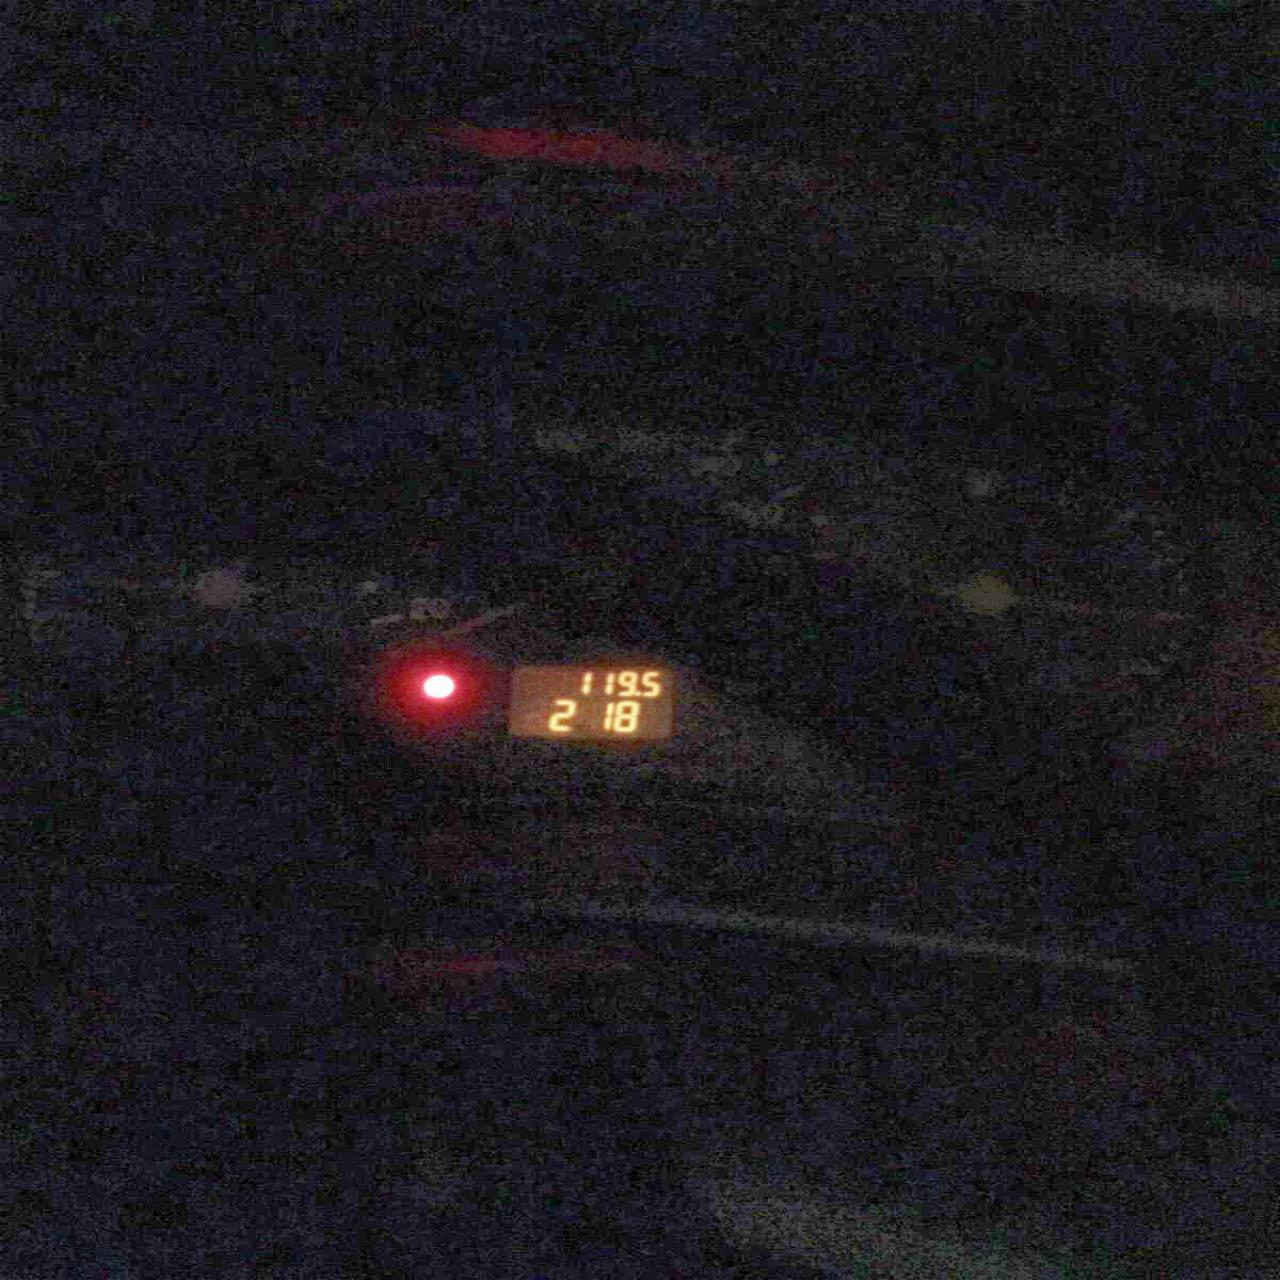-: (633, 689, 641, 696)
1: (601, 701, 614, 729), (602, 670, 614, 695), (580, 670, 592, 695)
2: (547, 699, 576, 731)
5: (641, 670, 660, 696)
8: (612, 700, 639, 733)
9: (617, 670, 638, 696)
odometer: (504, 661, 678, 742)
